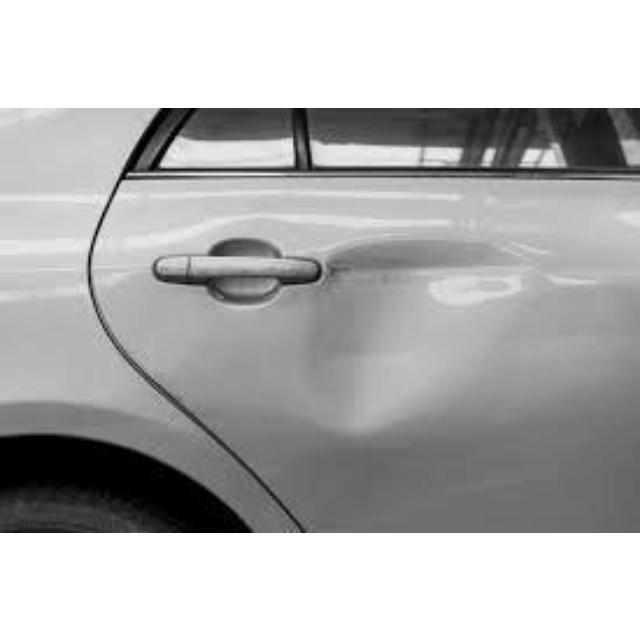doorouter-dent: (96, 175, 638, 531)
